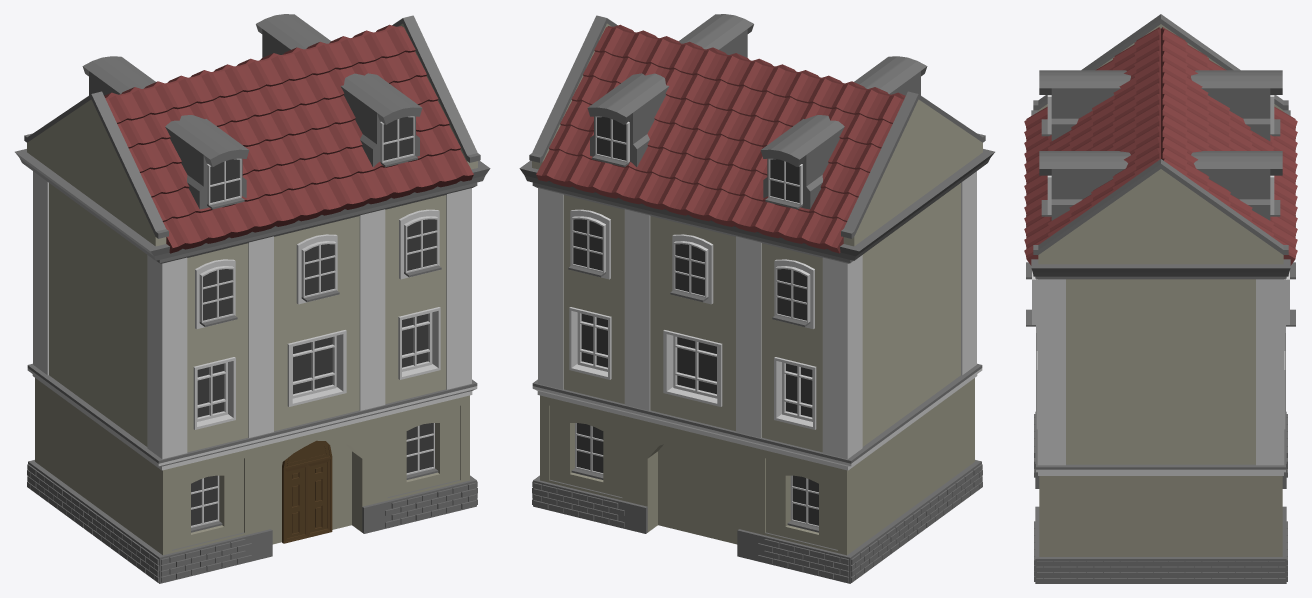
File: Building1_Small.glb
3 renders of one model, left to right at view 1: azimuth 30°, elevation 25°; view 2: azimuth 150°, elevation 25°; view 3: azimuth 270°, elevation 25°, orthographic. The views are drawn at different scales.
Visible parts, largest first — view 1: Building1_Small; view 2: Building1_Small; view 3: Building1_Small.
Part boxes in pixels (x1,y1,x2,y2): Building1_Small: (15,14,490,583); Building1_Small: (519,14,994,583); Building1_Small: (1024,14,1297,583).
Size of the model in its own units: 3.75 by 4.66 by 2.74.
